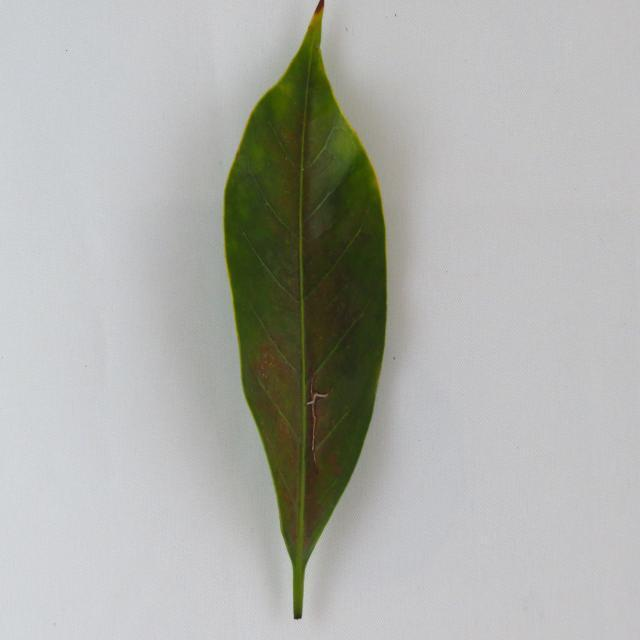DeficienciaNutricional-Fosforo: (224, 0, 386, 618)
